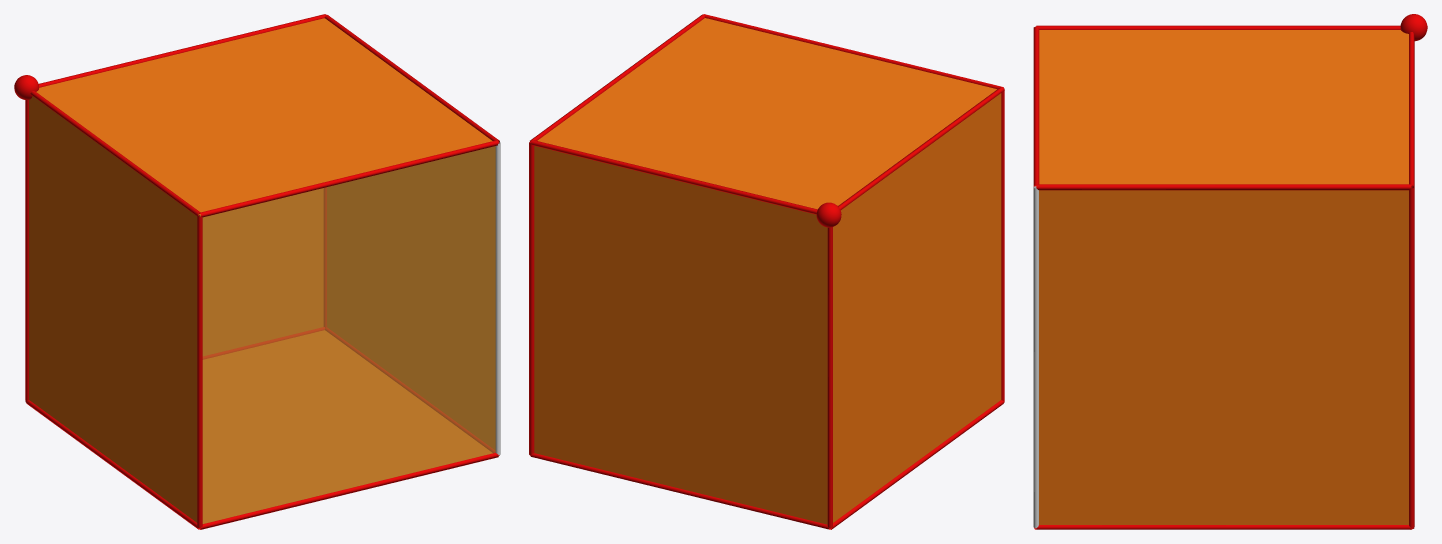
Rendered from CUBO.fbx.
3 renders of one model, left to right at view 1: azimuth 30°, elevation 25°; view 2: azimuth 150°, elevation 25°; view 3: azimuth 270°, elevation 25°, orthographic. The views are drawn at different scales.
Visible parts, largest first — view 1: polySurface14; view 2: polySurface14; view 3: polySurface14.
Part boxes in pixels (x1=…): polySurface14: x1=14, y1=14, x2=500, y2=529; polySurface14: x1=529, y1=14, x2=1004, y2=529; polySurface14: x1=1033, y1=14, x2=1427, y2=529.
Bounding box in the file's own units: 6.35 × 6.4 × 6.38.
